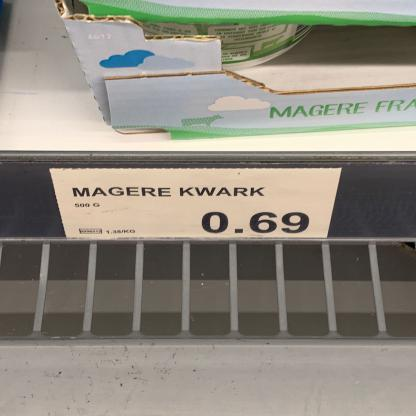prtg: (49, 169, 344, 239)
